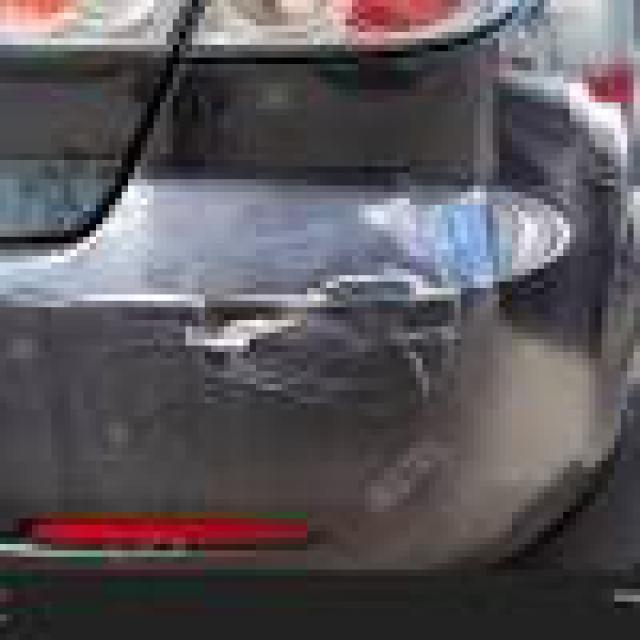rear-bumper-dent: (0, 160, 634, 595)
